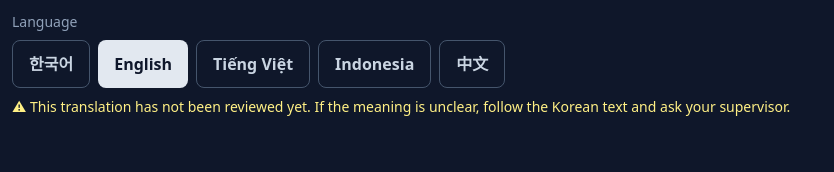
Test: LanguagePicker › 한국어가 아니면 검수 전이라고 알린다
Click the button "한국어" at {"x": 51, "y": 64}, box [12,40,90,88]
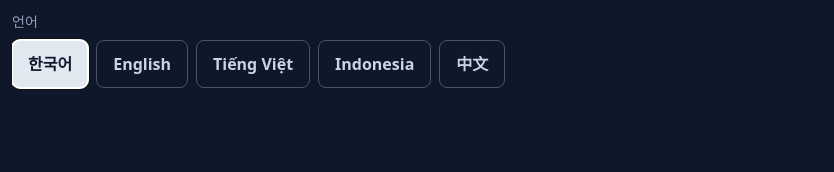
Result: the text "⚠" is gone
Click the button "Indonesia" at {"x": 375, "y": 64}, box [318,40,431,88]
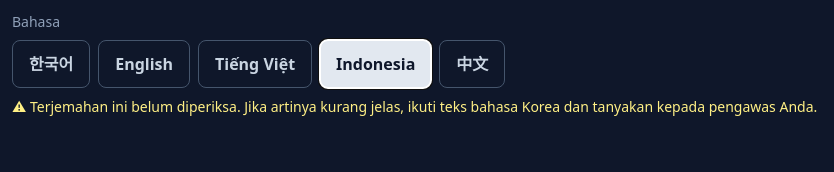
Result: the text "belum diperiksa" is shown at [30,97,817,116]
